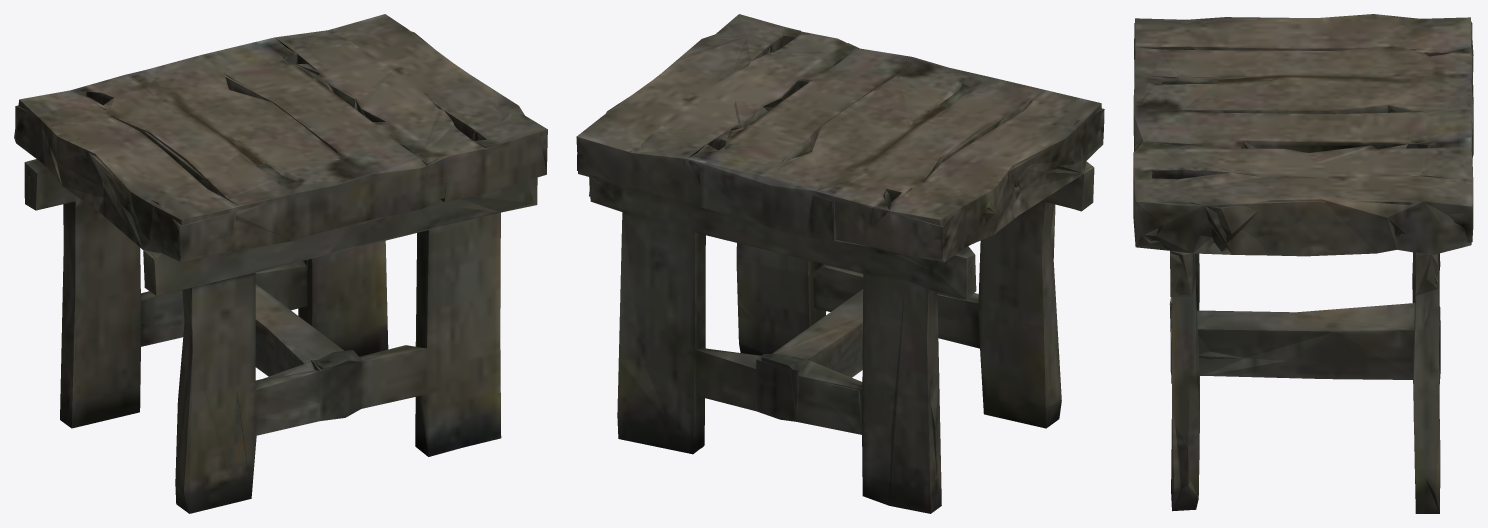
File: table.glb
3 views of the same model, side by side, from view 1: azimuth 30°, elevation 25°; view 2: azimuth 150°, elevation 25°; view 3: azimuth 270°, elevation 25° (orthographic). The views are drawn at different scales.
Parts seen in each view (by area): view 1: table; view 2: table; view 3: table.
Part boxes in pixels (x1,y1,x2,y2): table: (14,14,547,513); table: (576,14,1104,513); table: (1133,14,1473,513).
Size of the model in its own units: 0.9456 by 0.7388 by 0.6989.
Materials: 1 (1 with a texture image).
